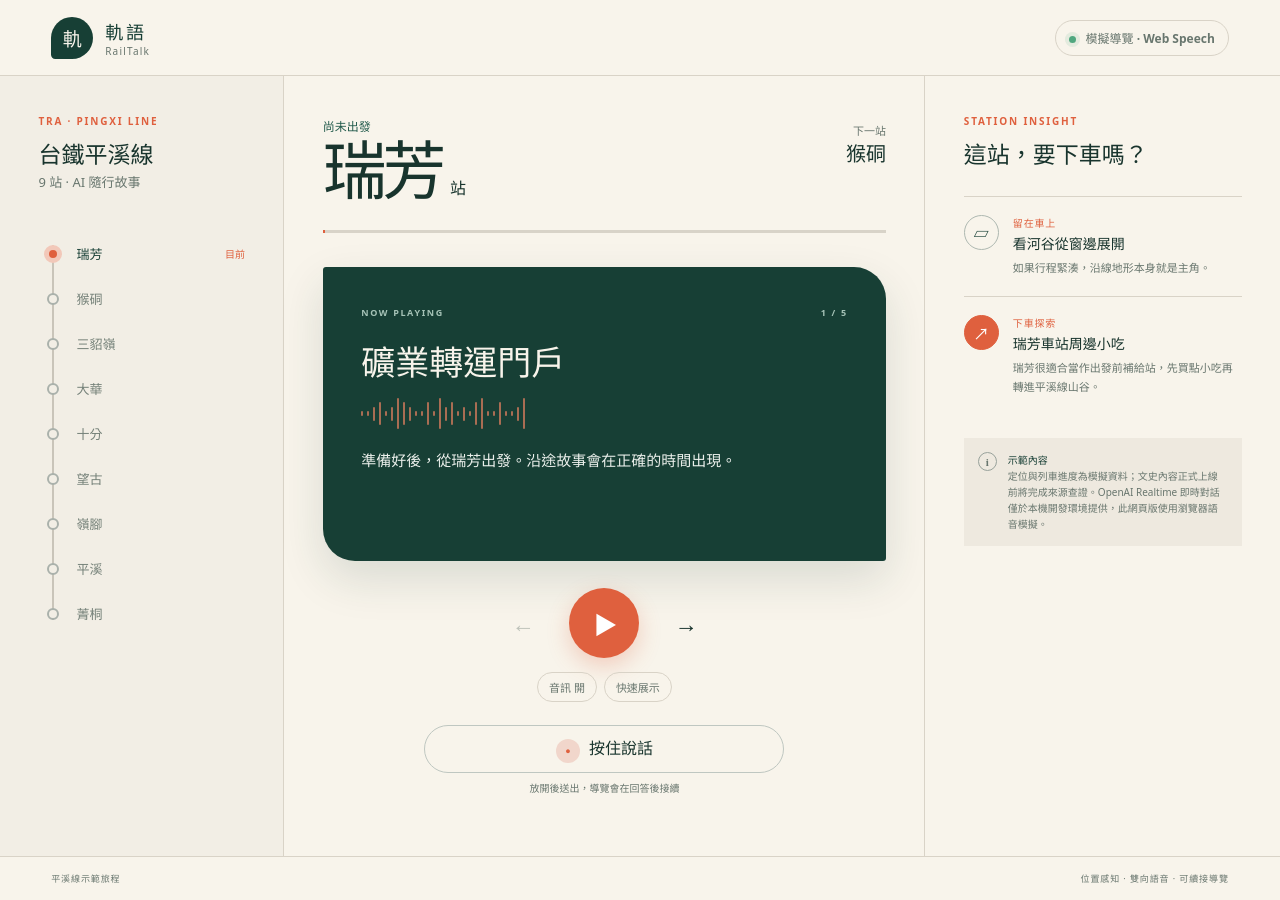
Test case: RailTalk web demo › advances to the next station in fast mode
Click the button "快速展示" at (638, 687), box [604,672,672,702]
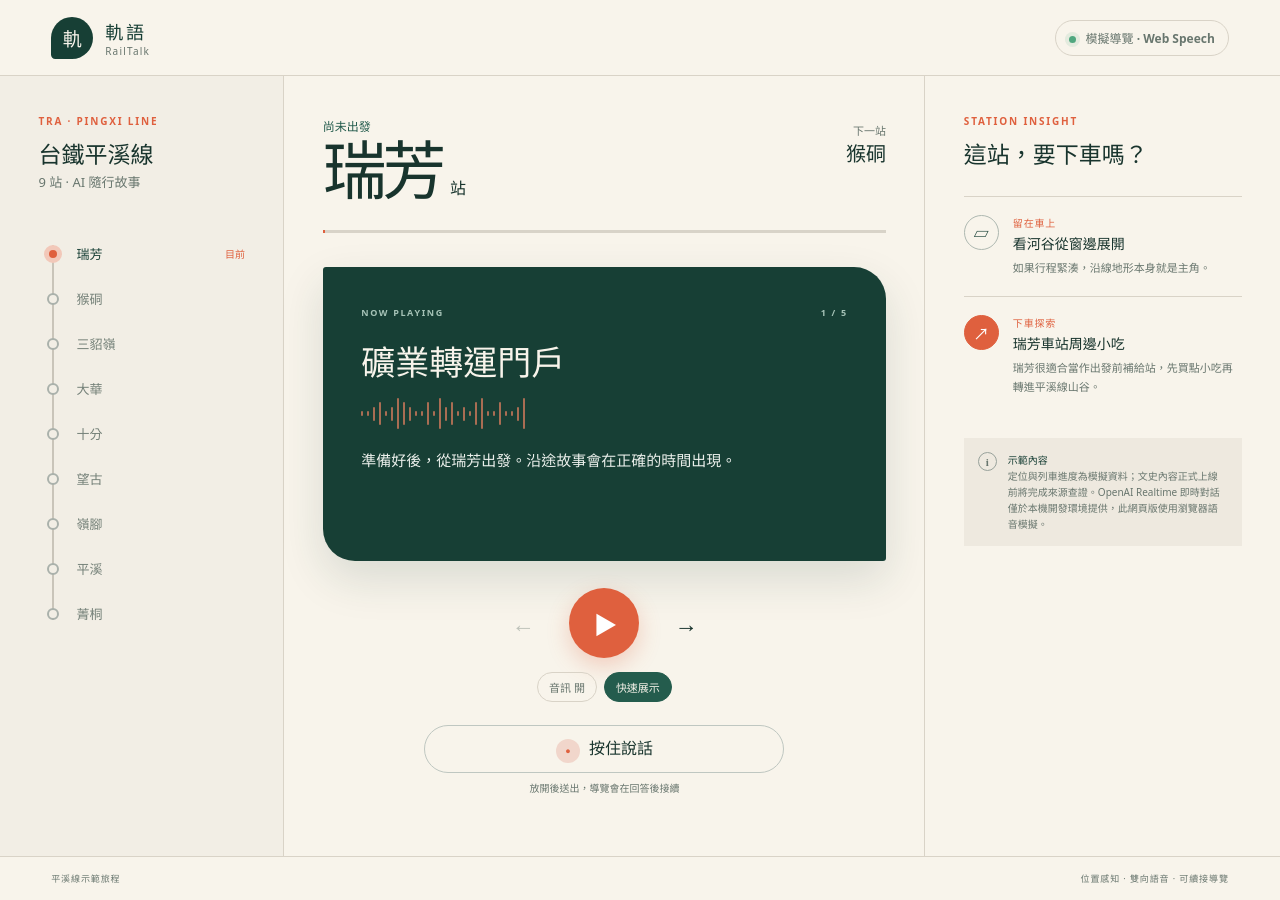
Click the button named "開始旅程" at (604, 623), box [569,588,639,658]
Wait 8100 ms
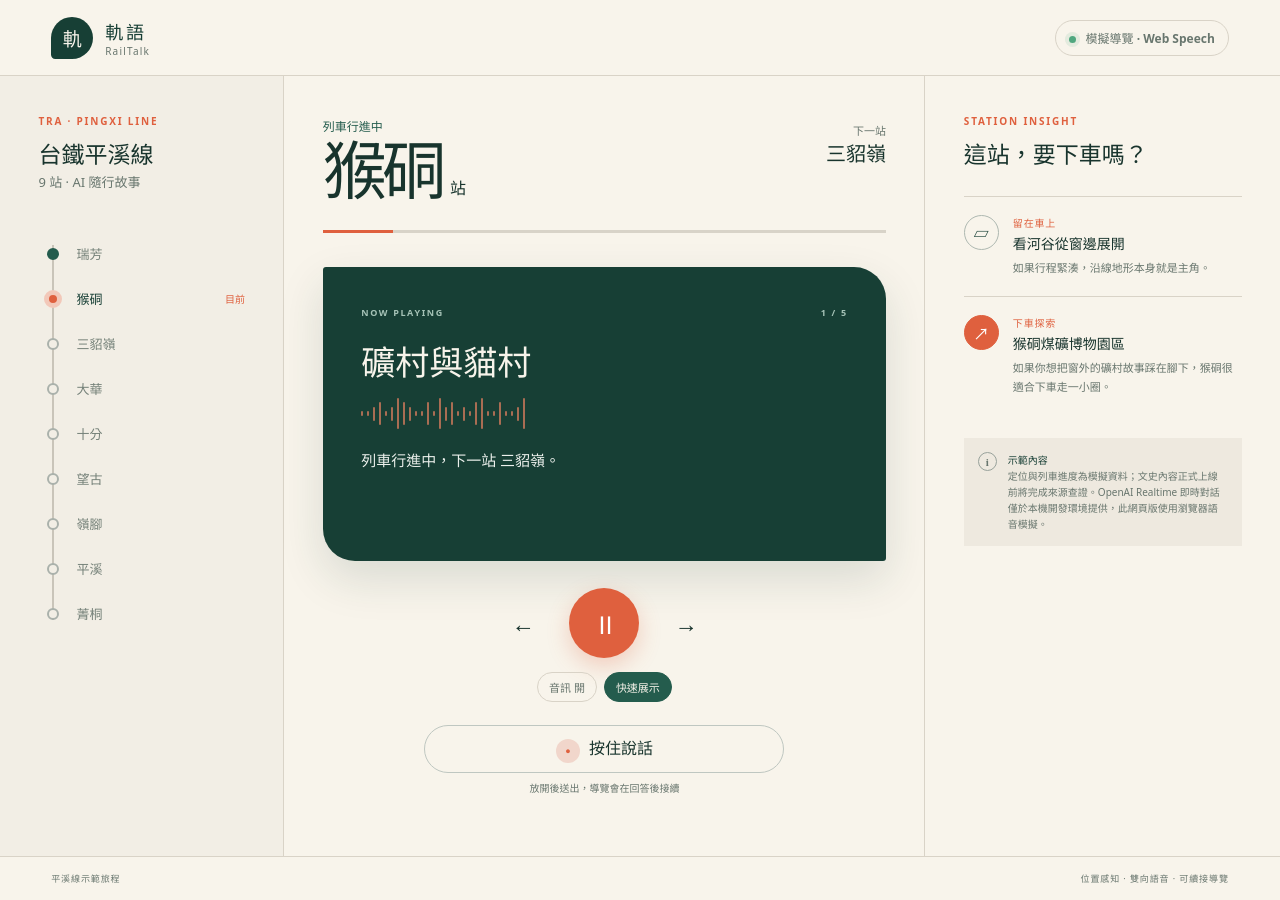
Expected: the heading "猴硐" is shown, [323,138,466,202]
